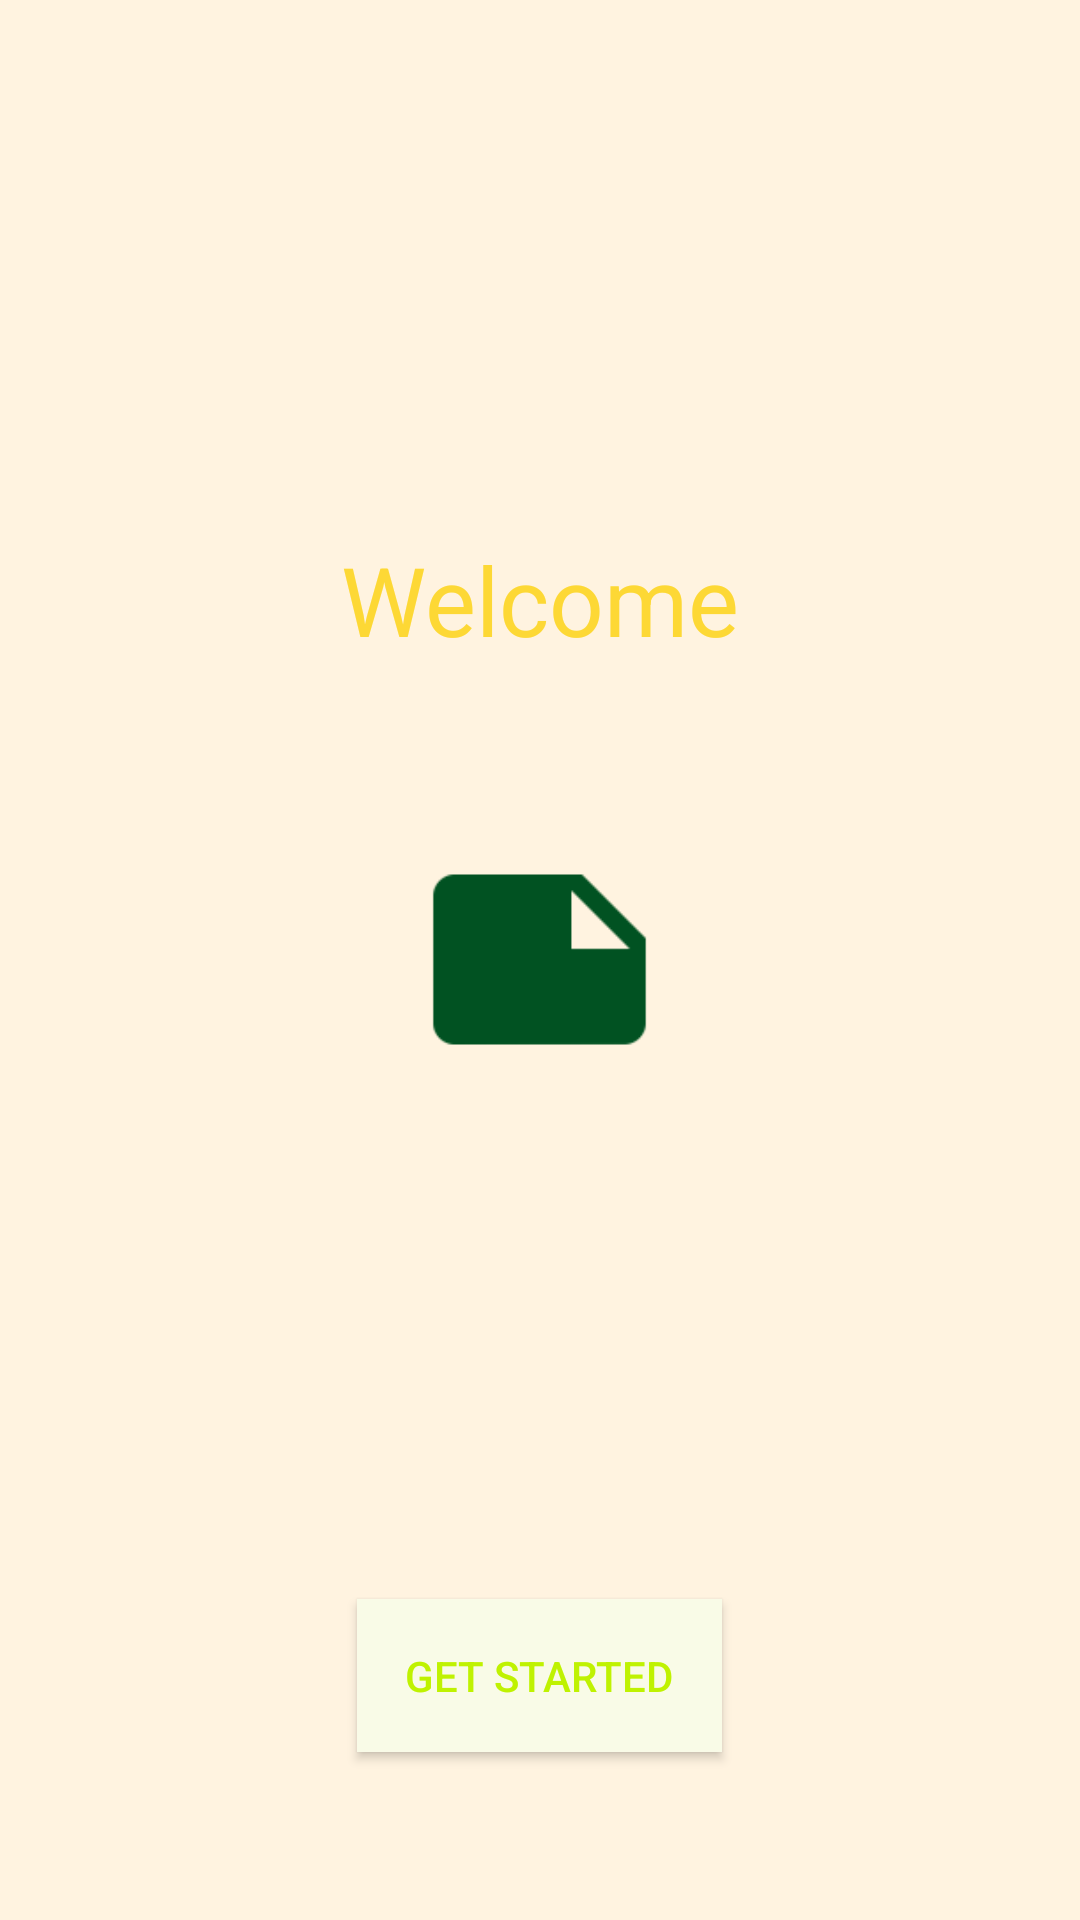

Icons on this 1080×1920 Android screen, each with the point to tap as point (x, y):
note: point (539, 959)
